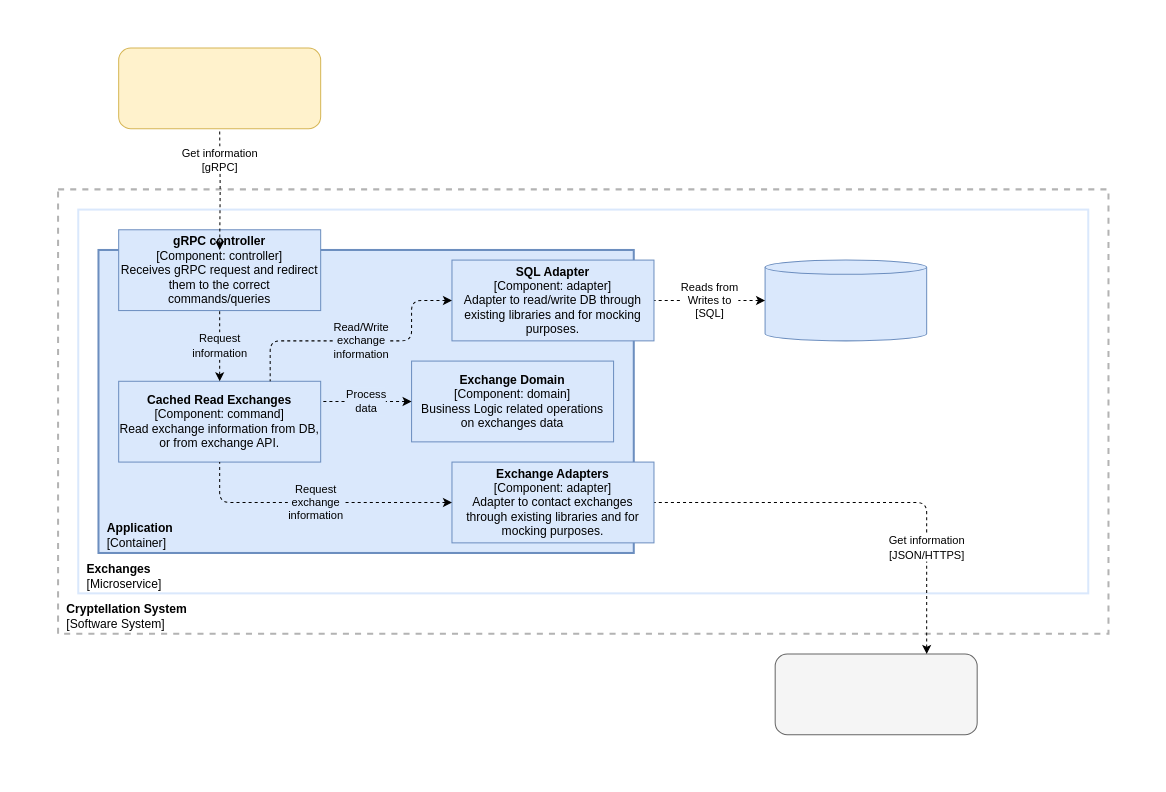
Some shapes in this 1166 by 792 pixel diagram are drawn without their labels. The centre of each missing label's shape, as x and y in pixels:
"Database [SQL Database] Stores exchanges information for further reuse" goes at [845,300].
"Exchanges [Internet Service] API that exchanges provides to get informations." goes at [875,694].
"User [Application] Application that a user will run to execute its strategies." goes at [219,88].
